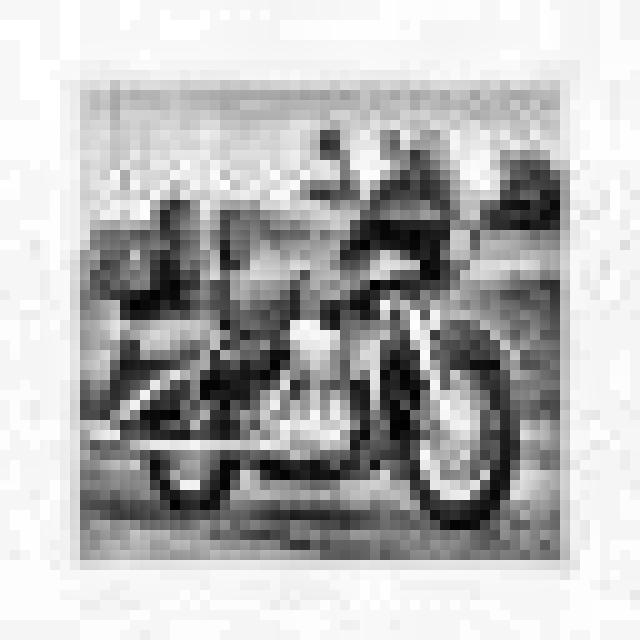mopeds: (84, 137, 537, 533)
